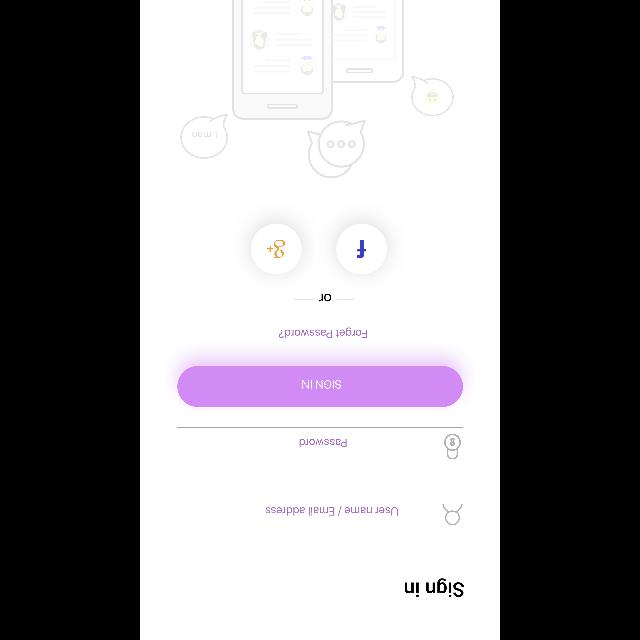icon: (250, 223, 302, 274), (337, 223, 388, 274), (444, 433, 461, 459), (442, 503, 462, 525)
image: (180, 0, 454, 178)
input: (178, 427, 462, 459), (178, 495, 462, 525)
text: (266, 505, 398, 515), (404, 578, 464, 598), (279, 328, 367, 338), (299, 439, 346, 447), (319, 294, 331, 302)
textbutton: (178, 366, 462, 406)
